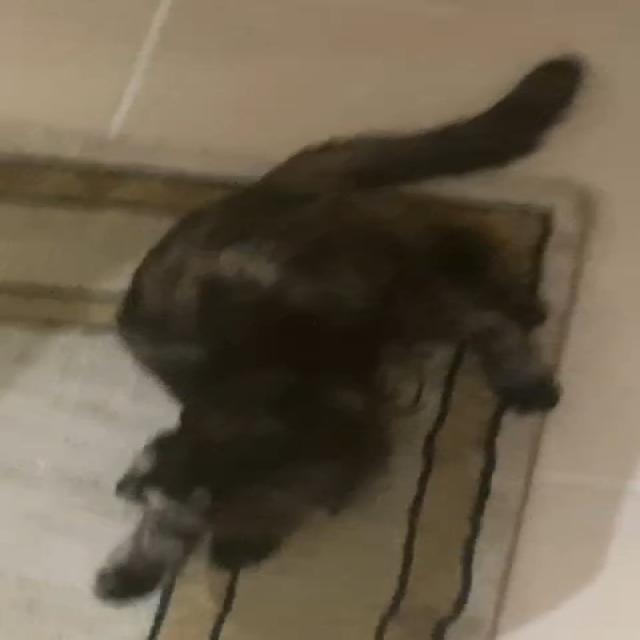authorized: (5, 51, 592, 638)
